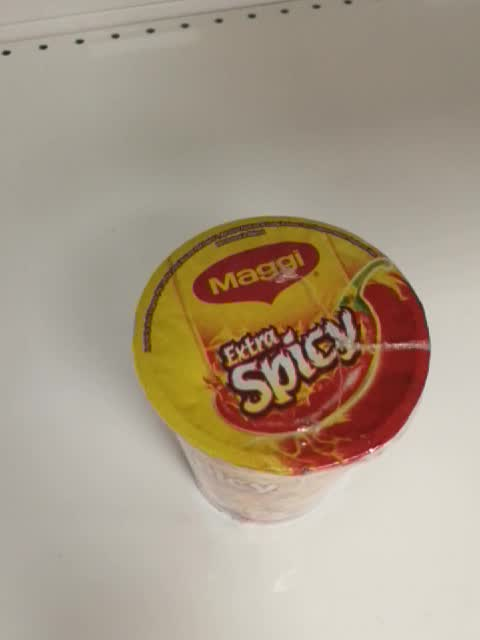maggi: (132, 215, 430, 524)
